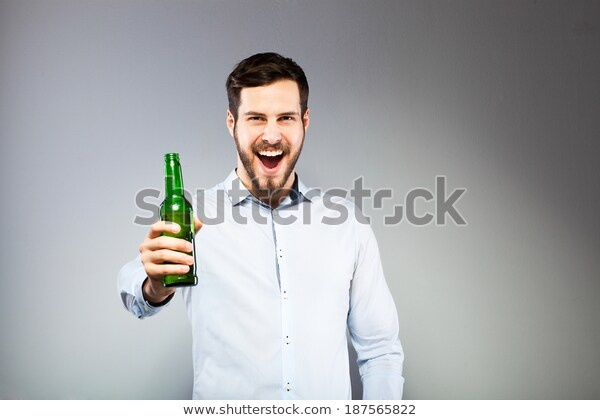beerBottle: (154, 151, 197, 283)
